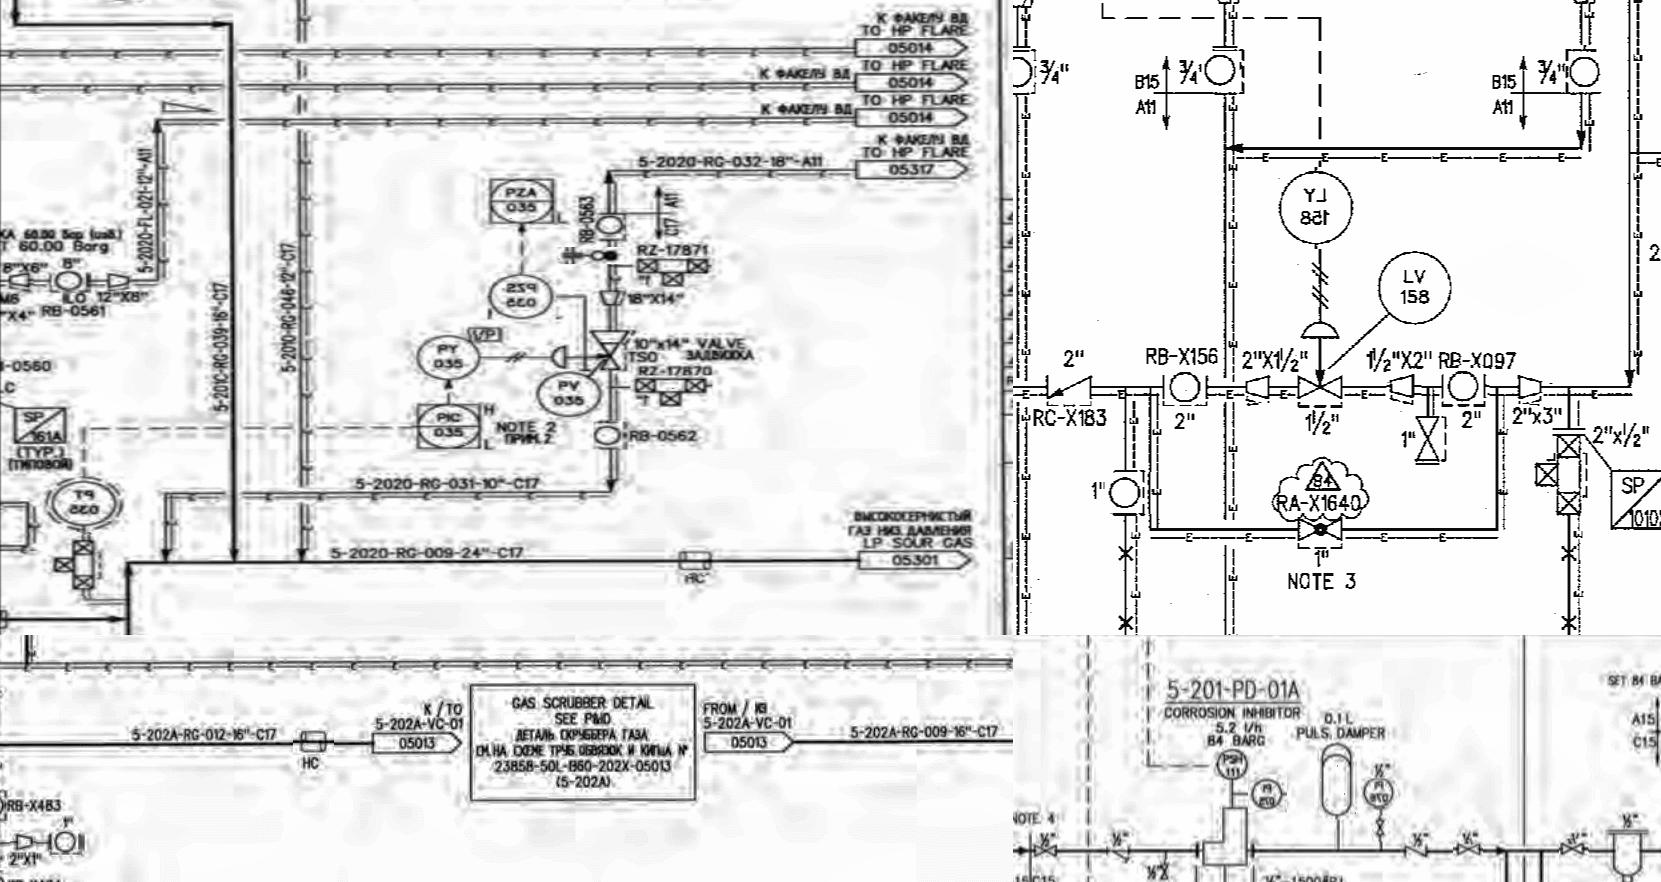2 WAY VALVE: (1528, 431, 1587, 522), (48, 535, 111, 596), (631, 377, 713, 413), (633, 256, 711, 288)
CONCENTRIC REDUCER: (1386, 370, 1422, 406), (1514, 373, 1545, 404), (1242, 375, 1275, 403), (593, 289, 627, 310), (1013, 0, 1043, 22), (105, 271, 134, 291), (10, 834, 36, 855), (1201, 0, 1247, 11), (9, 271, 34, 291)
DCS ACCESSIBLE: (412, 402, 483, 453), (481, 179, 560, 224)
DIAPHRAGM ACTUATED VALVE: (1290, 320, 1342, 407)
DRUM AND PRESSURE VESSEL: (1320, 740, 1357, 819)
DUPLEX RECEPTACLE: (673, 545, 721, 576), (293, 732, 334, 757)
END CAP: (545, 344, 573, 372)
FIELD INSTRUMENT: (1273, 167, 1362, 249), (1376, 246, 1454, 331), (42, 476, 125, 533), (487, 272, 555, 320), (413, 335, 480, 381), (534, 371, 600, 417), (1104, 472, 1153, 514), (1162, 368, 1213, 409), (1442, 366, 1490, 409), (1564, 45, 1601, 93), (1203, 52, 1242, 92), (1249, 774, 1287, 812), (1013, 49, 1043, 97), (1212, 749, 1249, 783), (1361, 779, 1397, 808), (51, 828, 82, 859), (594, 421, 625, 448), (51, 271, 89, 292), (597, 215, 623, 236)
GATE VALVE: (1290, 506, 1350, 551), (1407, 416, 1451, 461), (597, 343, 621, 376), (1560, 839, 1590, 862), (1027, 840, 1061, 859), (1454, 840, 1484, 861), (1372, 816, 1390, 842), (1157, 859, 1175, 882)
IP CONVERTER: (467, 326, 501, 345)
REVISION TRIANGLE: (1306, 455, 1341, 500)
SPECIAL PIPING ITEM: (1606, 466, 1661, 540), (8, 405, 70, 449)
SPECTACLE BLIND OPEN: (558, 247, 626, 264)
